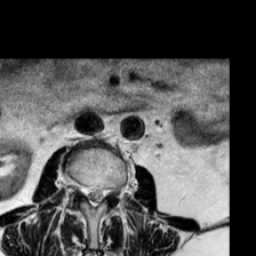CCS_normal: (91, 175, 98, 214)
LFS_normal: (107, 175, 116, 202)
LLS_normal: (98, 176, 107, 205)
RFS_normal: (76, 174, 84, 202)
RLS_normal: (84, 176, 91, 207)
